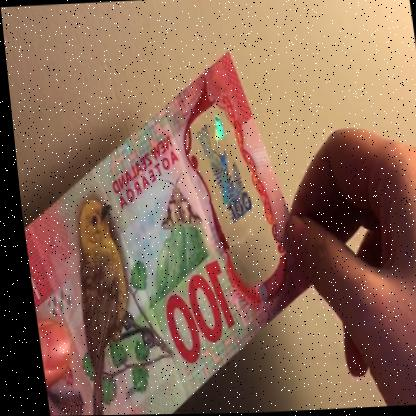100B: (188, 112, 253, 231)
